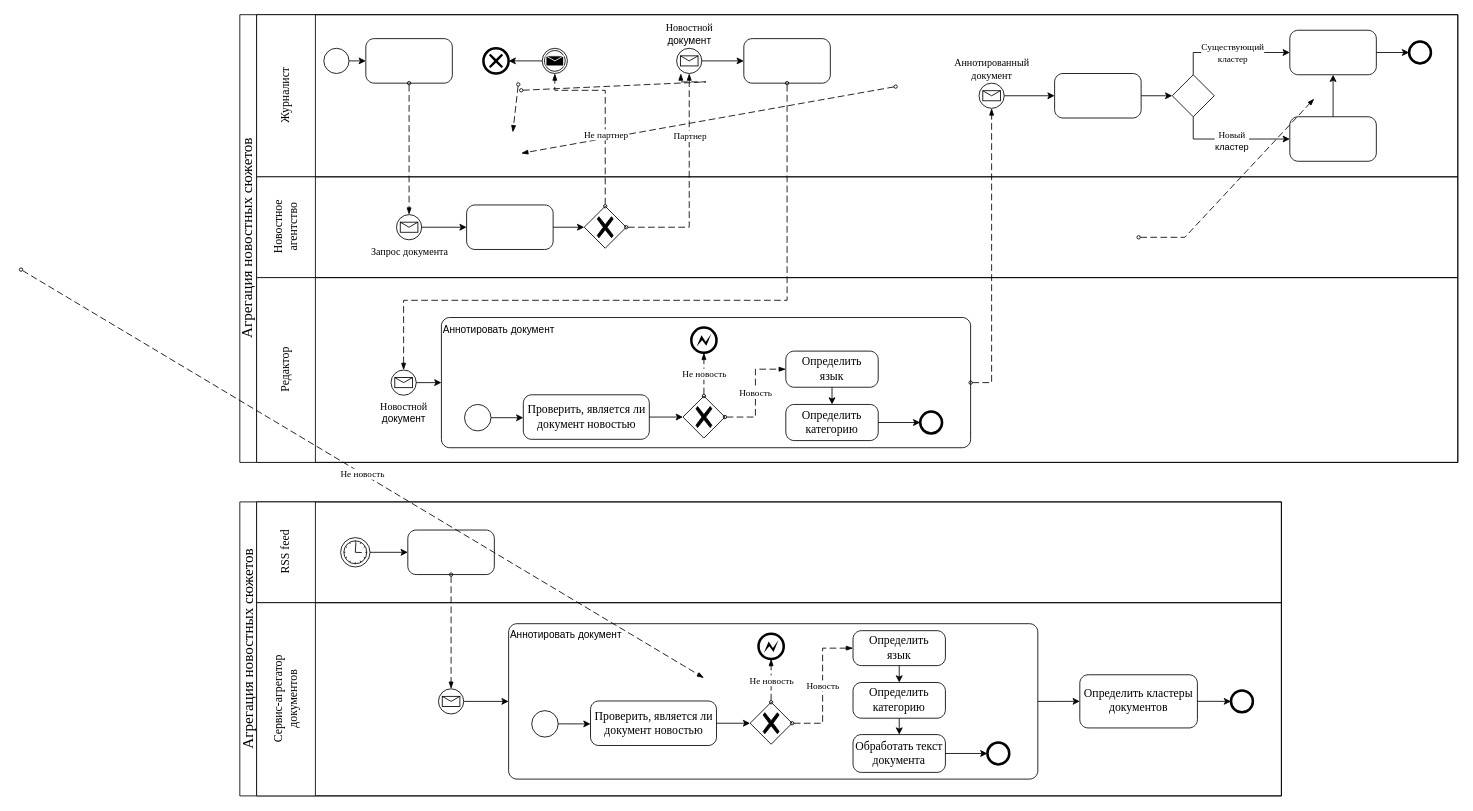
This 1473x811 diagram has some shape labels left out. The centre of each missing label's shape, as x and y in pixels:
JSON список документов: point 451,701
Добавить документ в кластер: point 1332,52
Запросить новостной документ: point 408,60
Инициировать проверку документа: point 786,60
Каждый час: point 355,552
Отдать список докуметнов: point 450,552
Проверить наличие партнерства: point 509,226
Проставить кластер документа: point 1097,95
Создать новый кластер: point 1332,138
Сообщение об отказе: point 554,60
